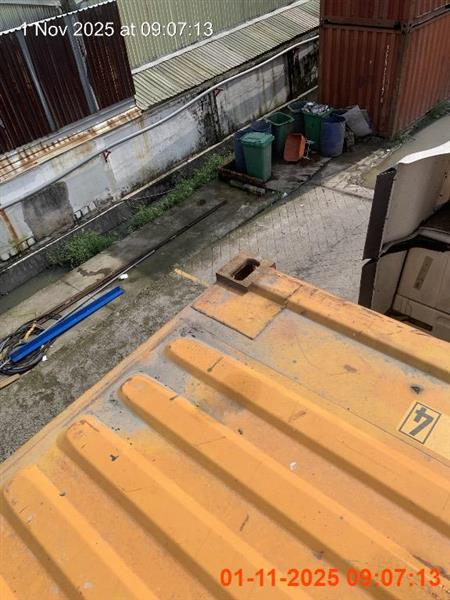rust: (0, 248, 448, 598), (356, 141, 449, 311), (0, 285, 125, 378)
